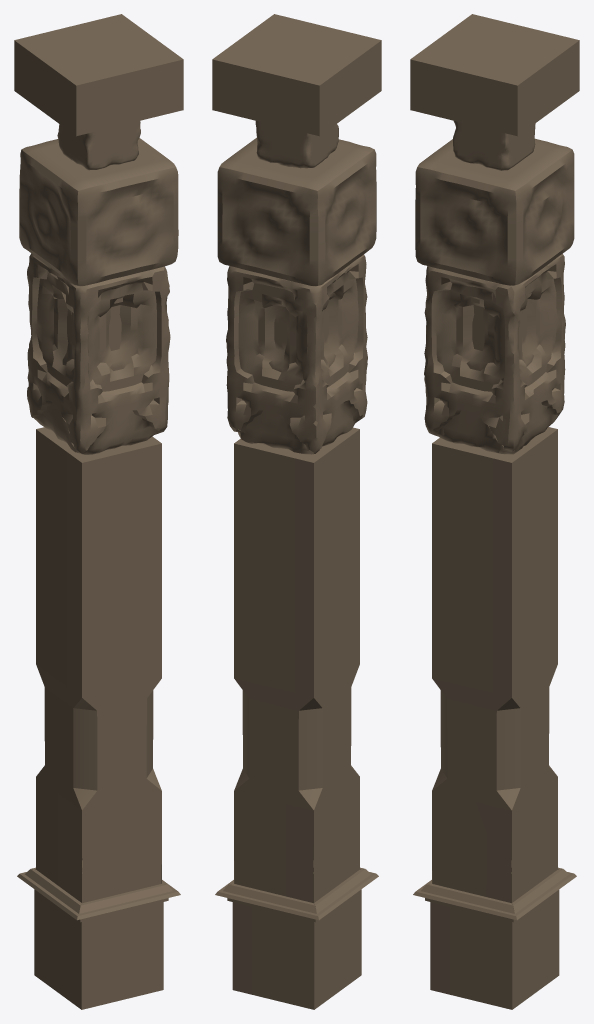
Rendered from collum_mid.fbx.
3 views of the same model, side by side, from view 1: azimuth 30°, elevation 25°; view 2: azimuth 150°, elevation 25°; view 3: azimuth 330°, elevation 25° (orthographic).
Visible parts, largest first — view 1: collum_vault.001, cap2.003, cap1.003, aqui.001, aqui1.003; view 2: collum_vault.001, cap2.003, cap1.003, aqui.001, aqui1.003; view 3: collum_vault.001, cap2.003, cap1.003, aqui.001, aqui1.003.
Part boxes in pixels (left/top/right/bottom): collum_vault.001: left=17, top=427, right=180, bottom=1009; cap2.003: left=27, top=253, right=170, bottom=454; cap1.003: left=19, top=138, right=178, bottom=286; aqui.001: left=14, top=14, right=183, bottom=136; aqui1.003: left=57, top=121, right=140, bottom=170; collum_vault.001: left=215, top=427, right=378, bottom=1009; cap2.003: left=226, top=254, right=367, bottom=454; cap1.003: left=217, top=137, right=376, bottom=286; aqui.001: left=212, top=14, right=381, bottom=136; aqui1.003: left=255, top=121, right=338, bottom=168; collum_vault.001: left=413, top=427, right=576, bottom=1009; cap2.003: left=424, top=254, right=565, bottom=454; cap1.003: left=415, top=138, right=574, bottom=285; aqui.001: left=410, top=14, right=579, bottom=136; aqui1.003: left=453, top=121, right=535, bottom=170.
Size of the model in its own units: 277 by 2298 by 277.
